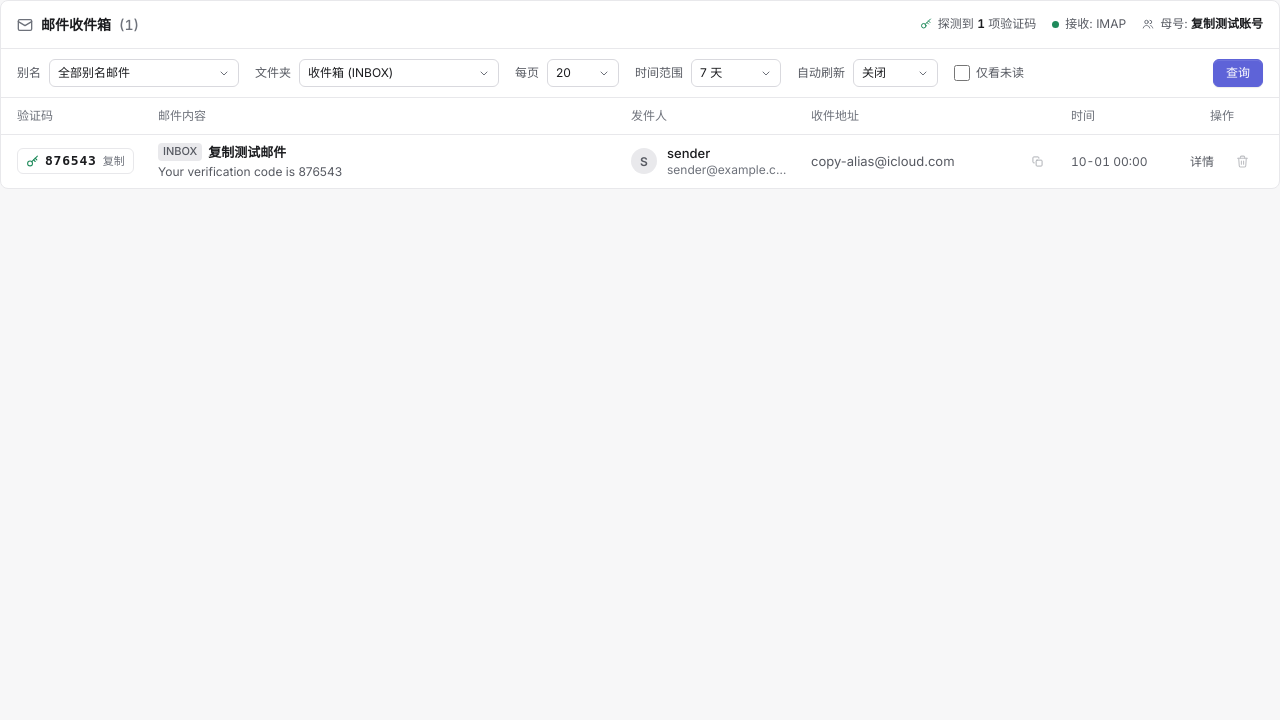
收件列表验证码与别名反馈遵循复制结果 (success=false)
Step 1. Click the button "876543 复制" → (75, 162), box x1=17 y1=148 x2=134 y2=174
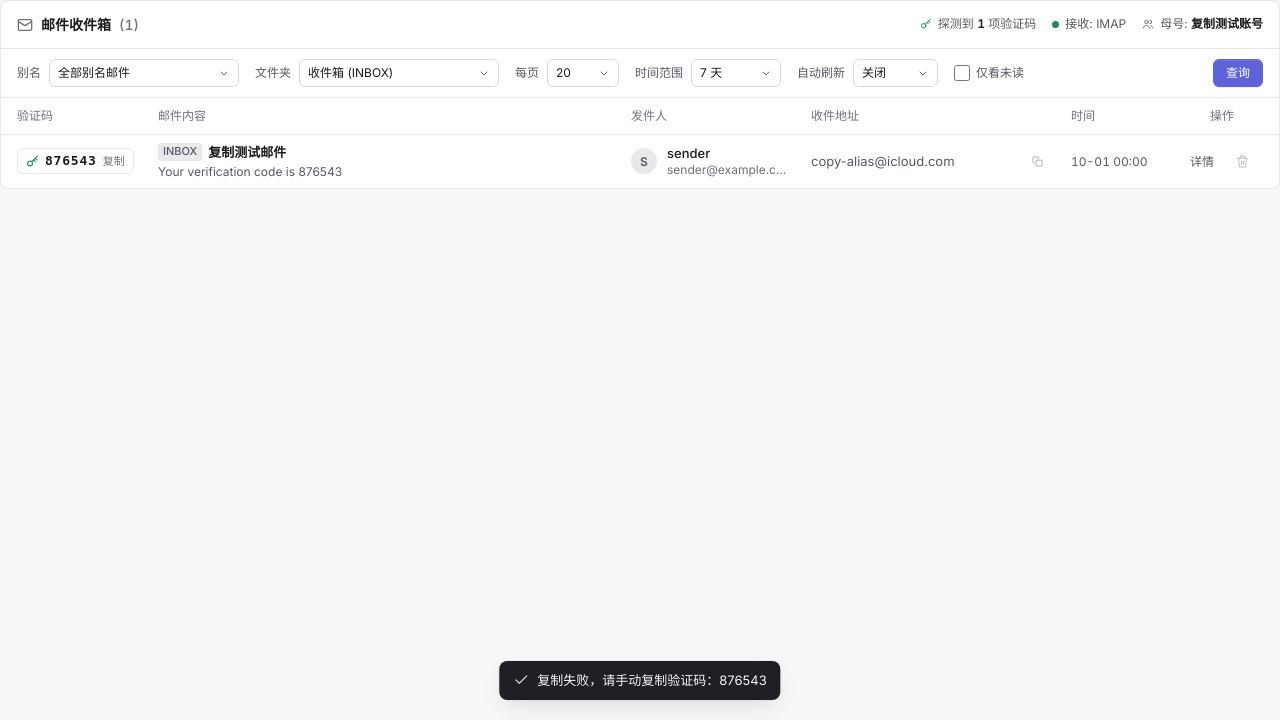
Expected: the text "复制失败，请手动复制验证码：876543" is shown, x1=537 y1=670 x2=767 y2=690
Step 2. Click the button titled "复制收件别名" → (1037, 162), box x1=1027 y1=152 x2=1047 y2=172
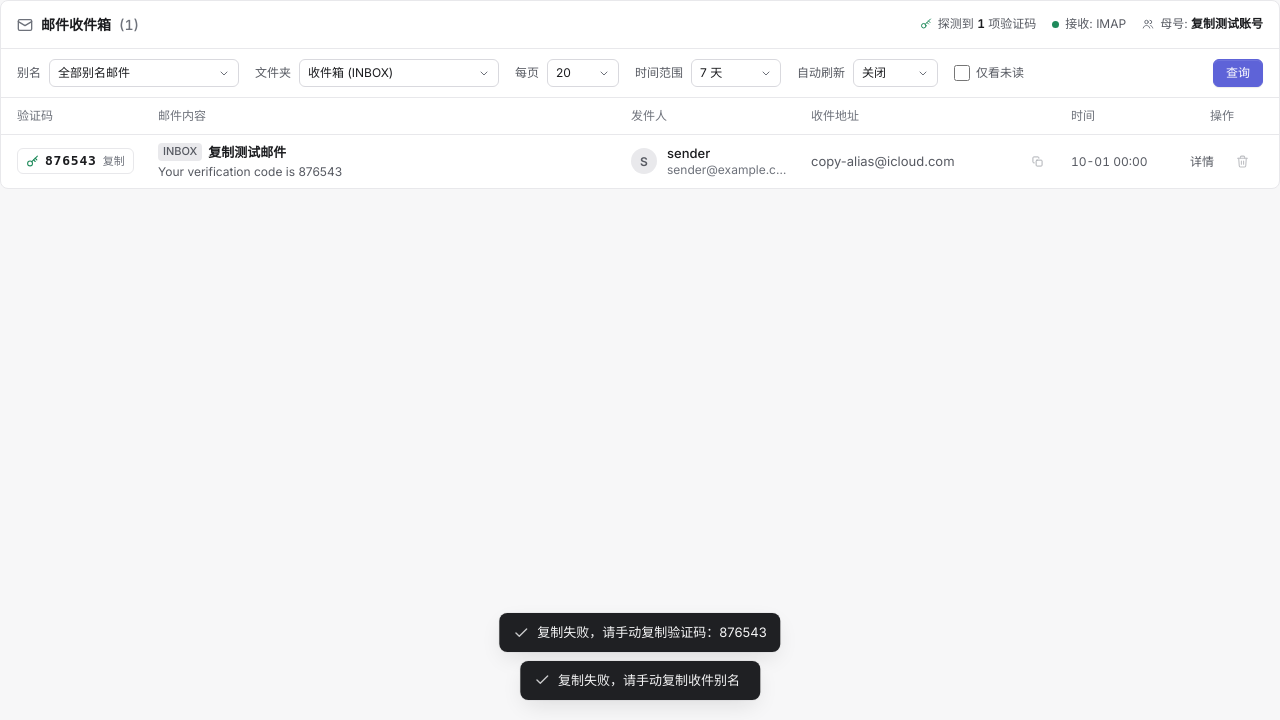
Expected: the text "复制失败，请手动复制收件别名" is shown, x1=558 y1=670 x2=746 y2=690
